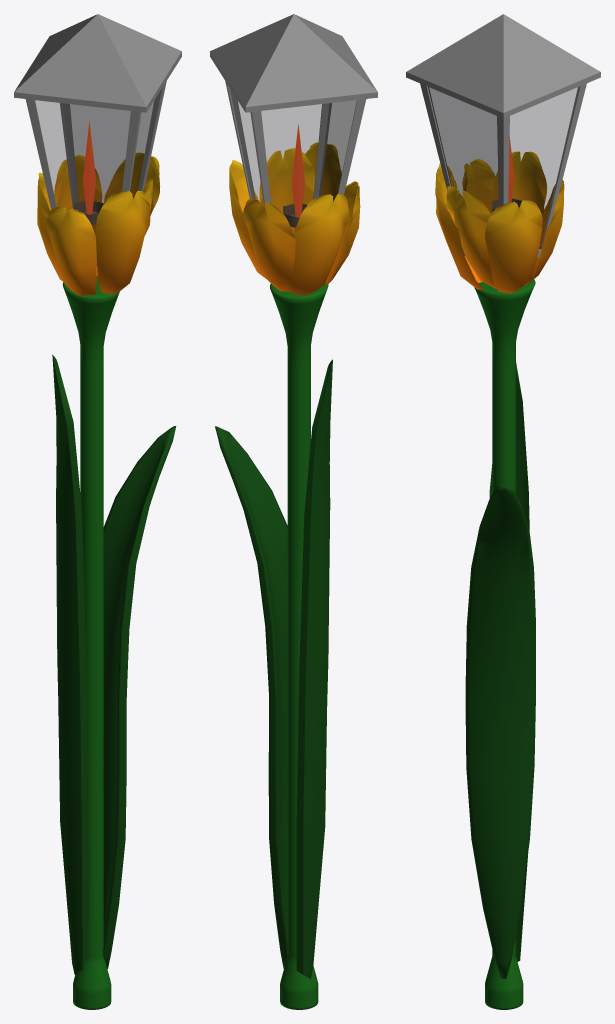
The model's file is 路燈new.FBX.
3 views of the same model, side by side, from view 1: azimuth 30°, elevation 25°; view 2: azimuth 150°, elevation 25°; view 3: azimuth 270°, elevation 25° (orthographic).
Parts seen in each view (by area): view 1: lamp001, Cylinder002, Box004, Box002, Line329, Line328, Line327, Line325, Fire001, Line326; view 2: lamp001, Box004, Cylinder002, Box002, Line326, Line327, Line330, Line325, Line328, Line329, Fire001; view 3: Box002, lamp001, Cylinder002, Line325, Line330, Box004, Line326, Line329, Line327, Line328.
Boxes of the visible parts, box(x1,y1,x2,y2) form: lamp001: box(14, 14, 181, 266); Cylinder002: box(62, 275, 119, 1009); Box004: box(52, 354, 88, 974); Box002: box(103, 426, 176, 968); Line329: box(95, 191, 150, 294); Line328: box(46, 206, 96, 295); Line327: box(54, 155, 102, 233); Line325: box(96, 152, 160, 275); Fire001: box(74, 121, 104, 224); Line326: box(37, 172, 63, 281); lamp001: box(210, 14, 377, 235); Box004: box(296, 359, 332, 979); Cylinder002: box(270, 283, 328, 1009); Box002: box(215, 426, 287, 968); Line326: box(291, 193, 348, 295); Line327: box(243, 198, 295, 291); Line330: box(259, 148, 315, 233); Line325: box(229, 160, 267, 279); Line328: box(322, 181, 360, 288); Line329: box(289, 142, 341, 201); Fire001: box(283, 124, 307, 227); Box002: box(465, 483, 535, 978); lamp001: box(406, 14, 600, 257); Cylinder002: box(474, 279, 535, 1009); Line325: box(485, 200, 542, 293); Line330: box(446, 186, 496, 288); Box004: box(489, 362, 529, 961); Line326: box(490, 151, 547, 217); Line329: box(435, 163, 484, 290); Line327: box(523, 180, 564, 287); Line328: box(462, 159, 495, 214).
Size of the model in its own units: 8804 by 49440 by 8804.
7 materials, 1 textured.
